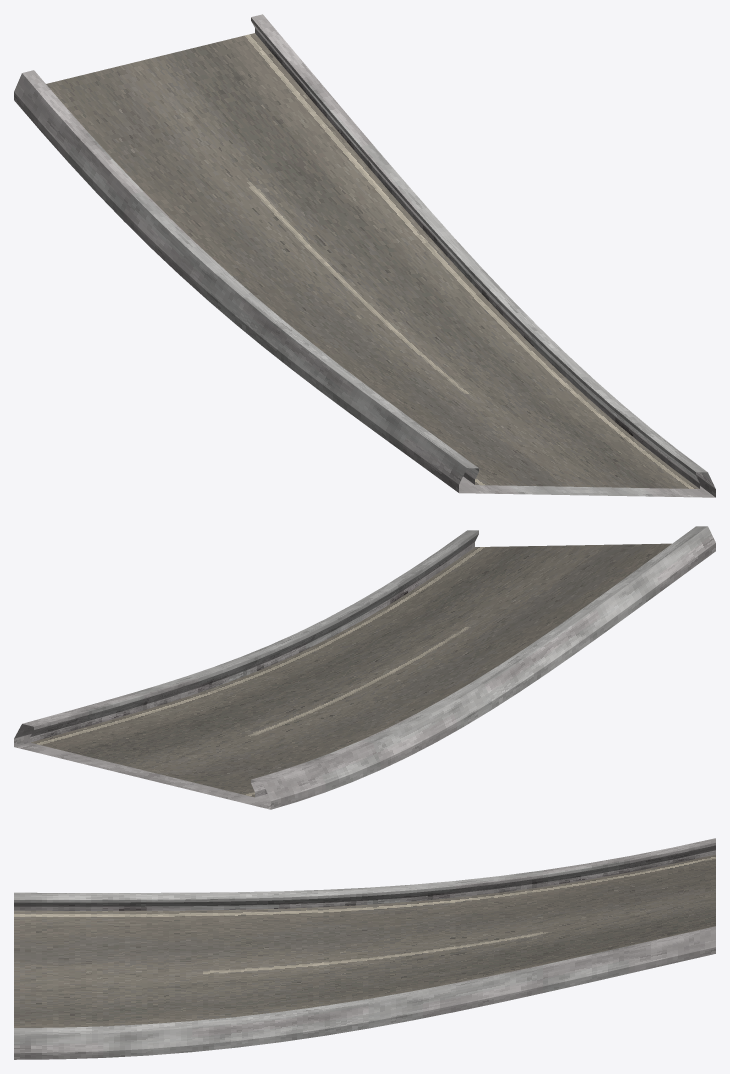
Rendered from straight3.glb.
3 renders of one model, top to bottom at view 1: azimuth 30°, elevation 25°; view 2: azimuth 150°, elevation 25°; view 3: azimuth 270°, elevation 25°, orthographic. The views are drawn at different scales.
Parts seen in each view (by area): view 1: road-Straight-HalfBankedRight-BiSlopeUp-Up2-Center-Size3; view 2: road-Straight-HalfBankedRight-BiSlopeUp-Up2-Center-Size3; view 3: road-Straight-HalfBankedRight-BiSlopeUp-Up2-Center-Size3.
Part boxes in pixels (x1,y1,x2,y2): road-Straight-HalfBankedRight-BiSlopeUp-Up2-Center-Size3: (14,14,715,497); road-Straight-HalfBankedRight-BiSlopeUp-Up2-Center-Size3: (14,526,715,809); road-Straight-HalfBankedRight-BiSlopeUp-Up2-Center-Size3: (14,838,715,1059).
Size of the model in its own units: 1 by 0.5937 by 3.
2 materials, 2 textured.
